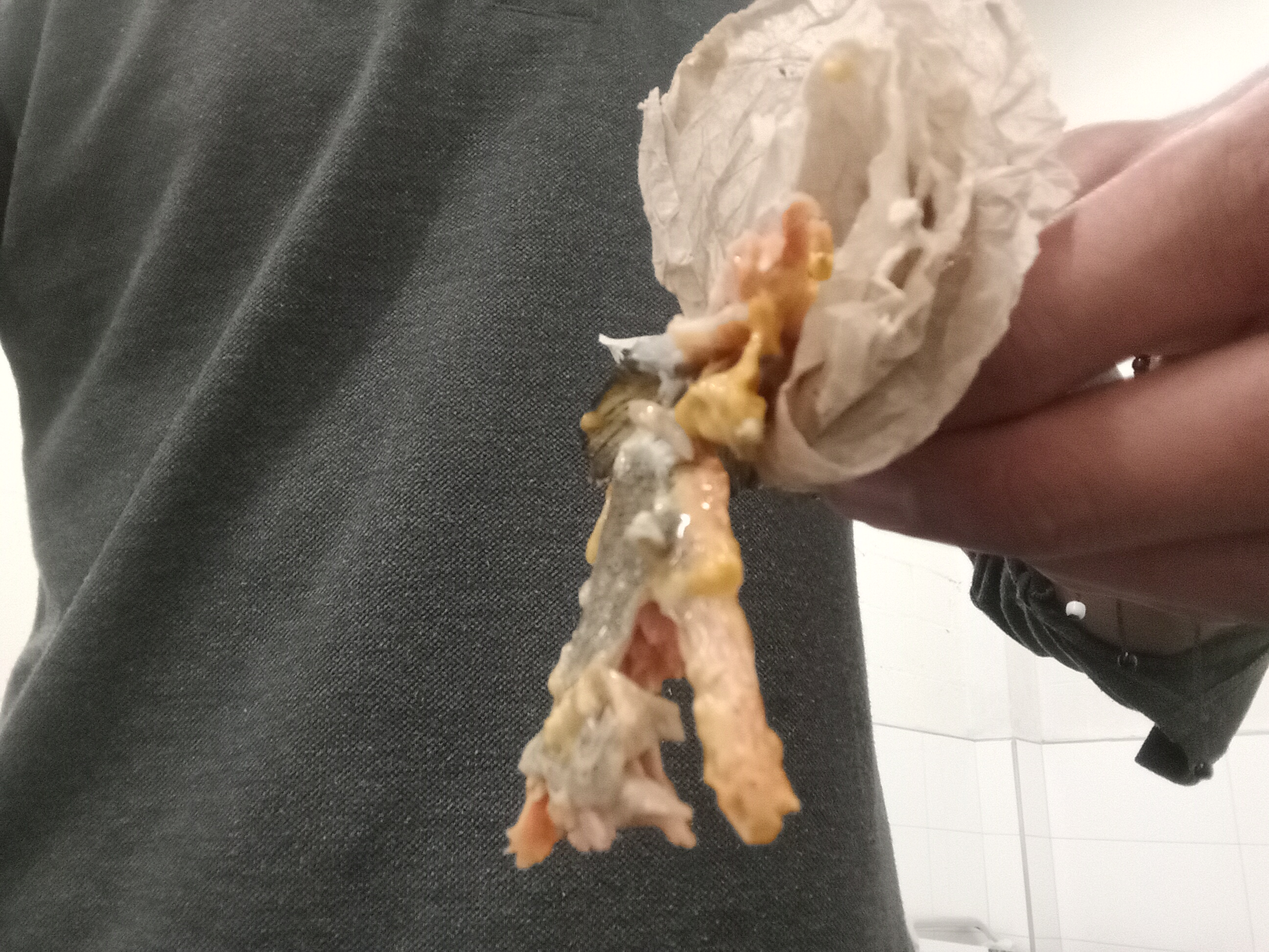Organico: (502, 195, 856, 882)
